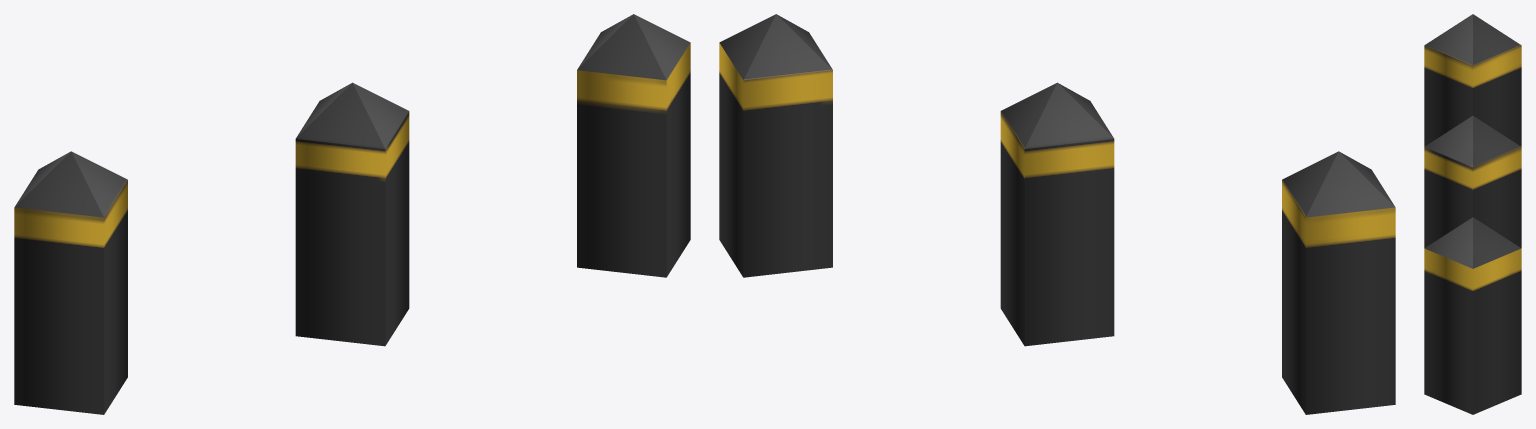
The model's file is walkbloker.FBX.
The picture shows the model from 3 angles, left to right: view 1: azimuth 30°, elevation 25°; view 2: azimuth 150°, elevation 25°; view 3: azimuth 270°, elevation 25°; orthographic projection. The views are drawn at different scales.
Parts seen in each view (by area): view 1: Cylinder020; view 2: Cylinder020; view 3: Cylinder020.
Boxes of the visible parts, x1,y1,x2,y2 form: Cylinder020: (14,14,690,414); Cylinder020: (719,14,1395,414); Cylinder020: (1424,14,1521,414).
Size of the model in its own units: 31.94 by 10.82 by 5.37.
